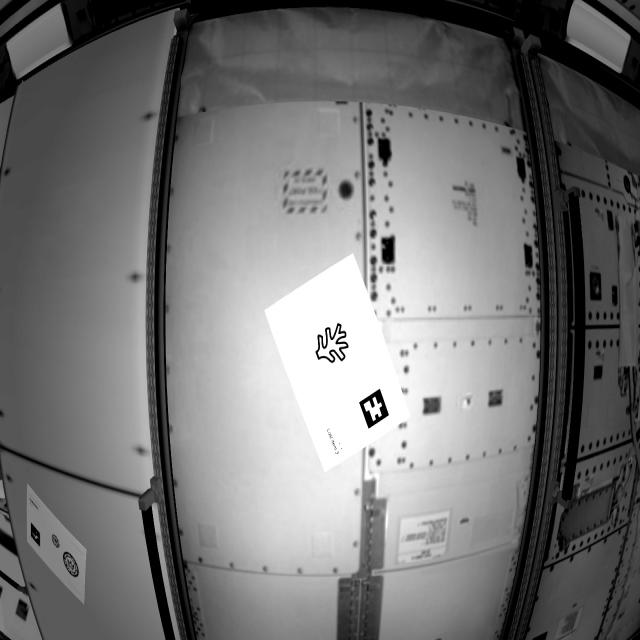coin: (59, 550, 84, 584), (50, 534, 63, 552)
coral: (312, 319, 352, 370)
